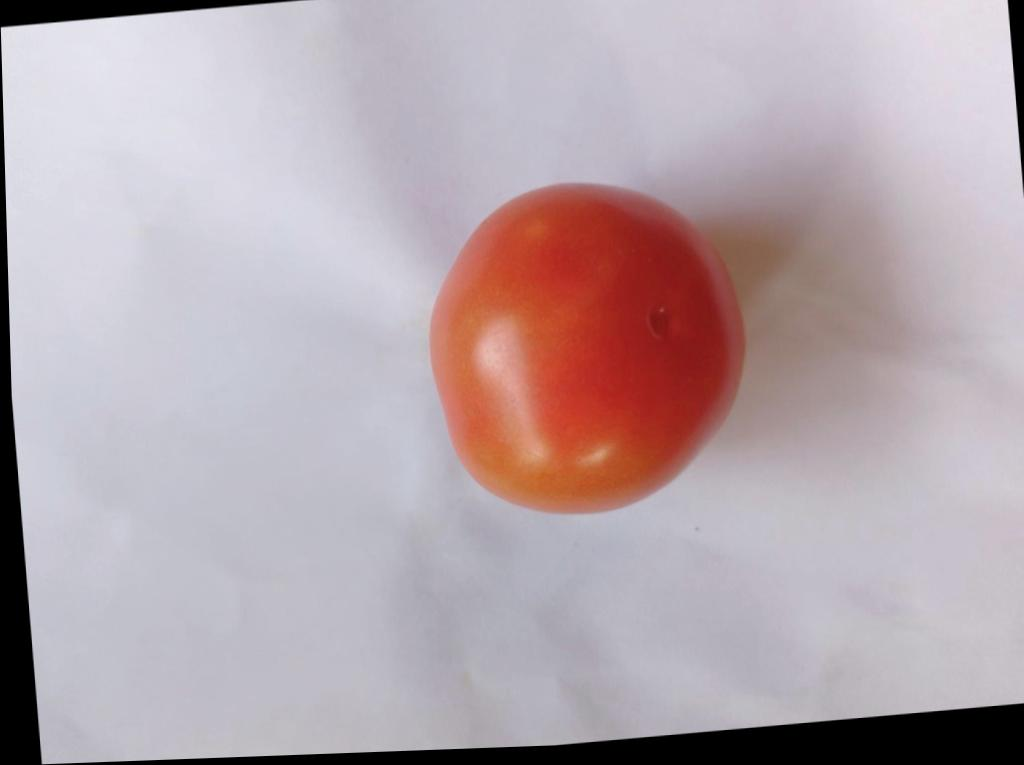tomato: (431, 183, 744, 512)
